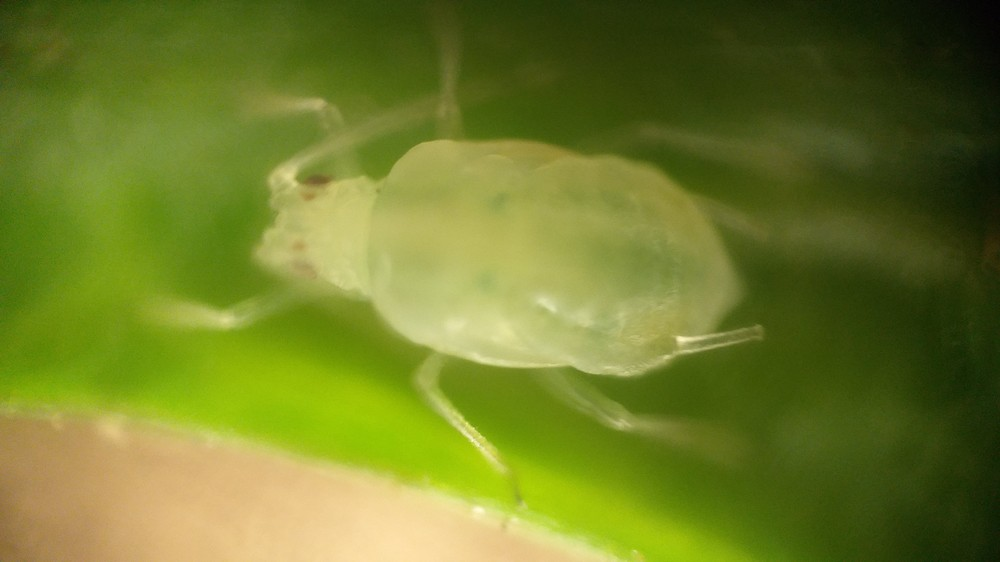Pulgon: (146, 5, 845, 503)
